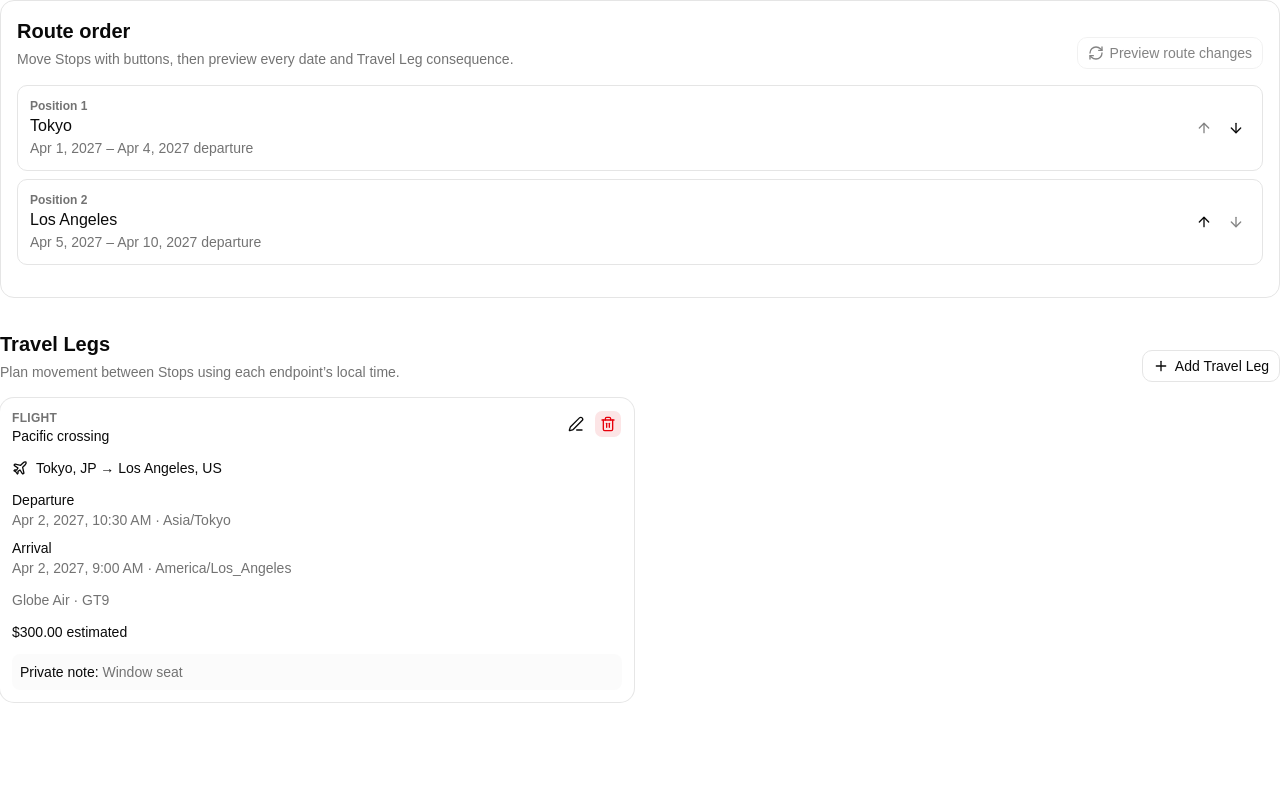
Scenario: Travel Leg workspace › renders both stored endpoint zones and preserves them in the edit form
Expected: the text "Apr 2, 2027, 10:30 AM · Asia/Tokyo" is shown, [12,512,231,528]
Expected: the text "Apr 2, 2027, 9:00 AM · America/Los_Angeles" is shown, [12,560,291,576]
Click the button named "Edit Pacific crossing": (576, 424) [562,410,590,438]
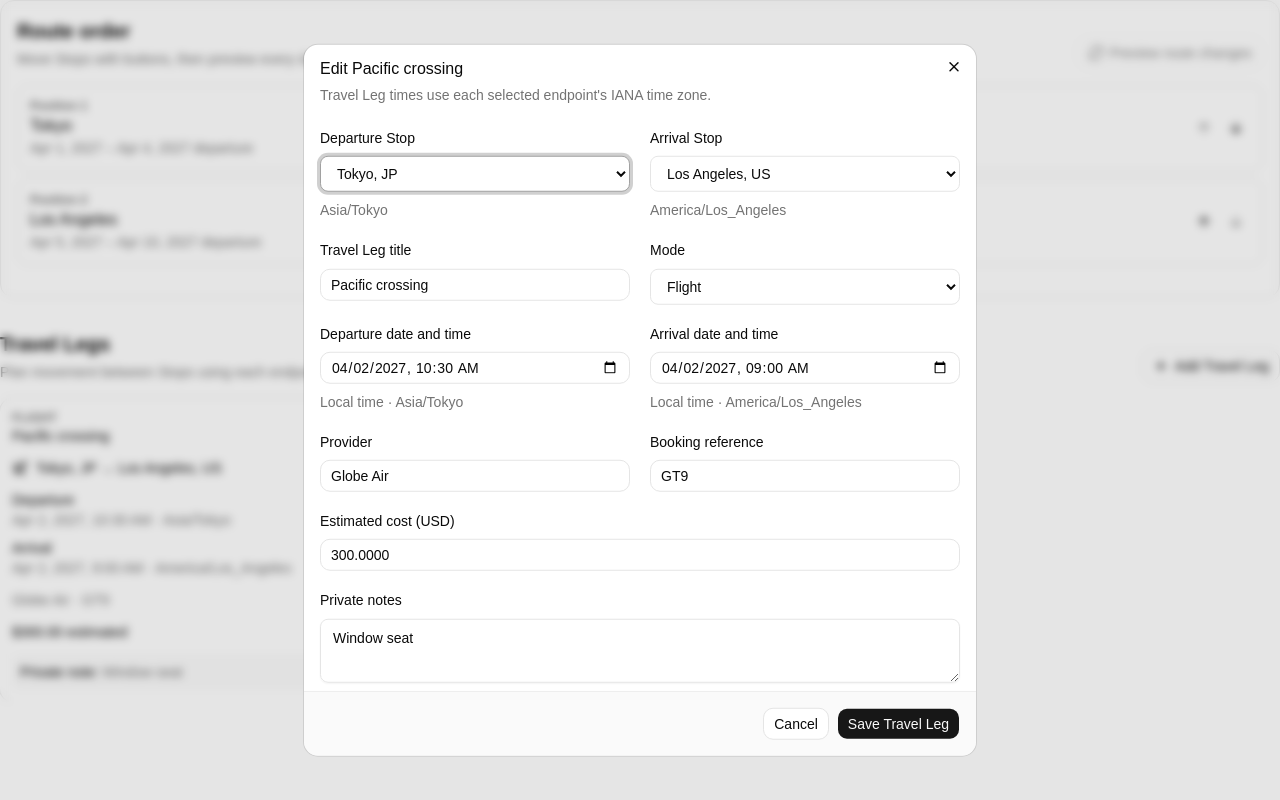
Expected: the dialog "Edit Pacific crossing" is shown, [304,45,976,755]
Expected: the field labelled "Departure date and time" holds "2027-04-02T10:30", [320,352,630,384]
Expected: the field labelled "Arrival date and time" holds "2027-04-02T09:00", [650,352,960,384]
